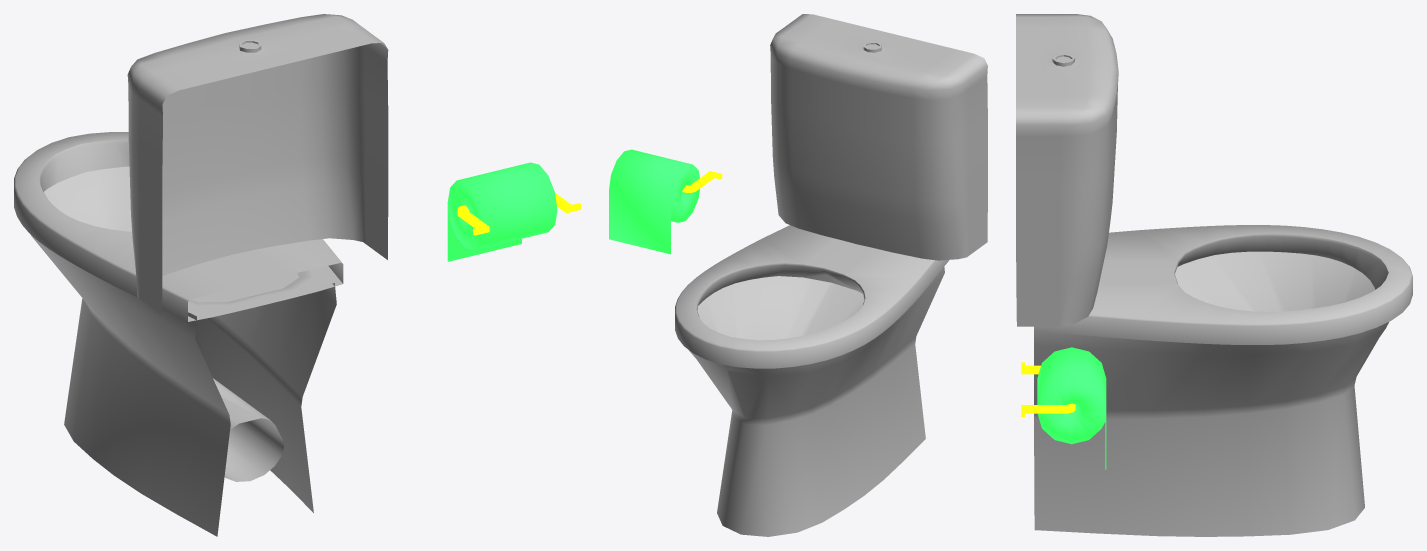
Rendered from bathroom_toliet.fbx.
3 renders of one model, left to right at view 1: azimuth 30°, elevation 25°; view 2: azimuth 150°, elevation 25°; view 3: azimuth 270°, elevation 25°, orthographic. The views are drawn at different scales.
Visible parts, largest first — view 1: Plane001, HSHP_MOD_Toilet_paper; view 2: Plane001, HSHP_MOD_Toilet_paper; view 3: Plane001, HSHP_MOD_Toilet_paper.
Part boxes in pixels (x1,y1,x2,y2): Plane001: (14,14,388,536); HSHP_MOD_Toilet_paper: (447,162,580,261); Plane001: (675,14,987,536); HSHP_MOD_Toilet_paper: (609,149,722,254); Plane001: (1016,14,1412,536); HSHP_MOD_Toilet_paper: (1021,347,1106,469).
Bounding box in the file's own units: 40.03 × 42.63 × 34.13.
